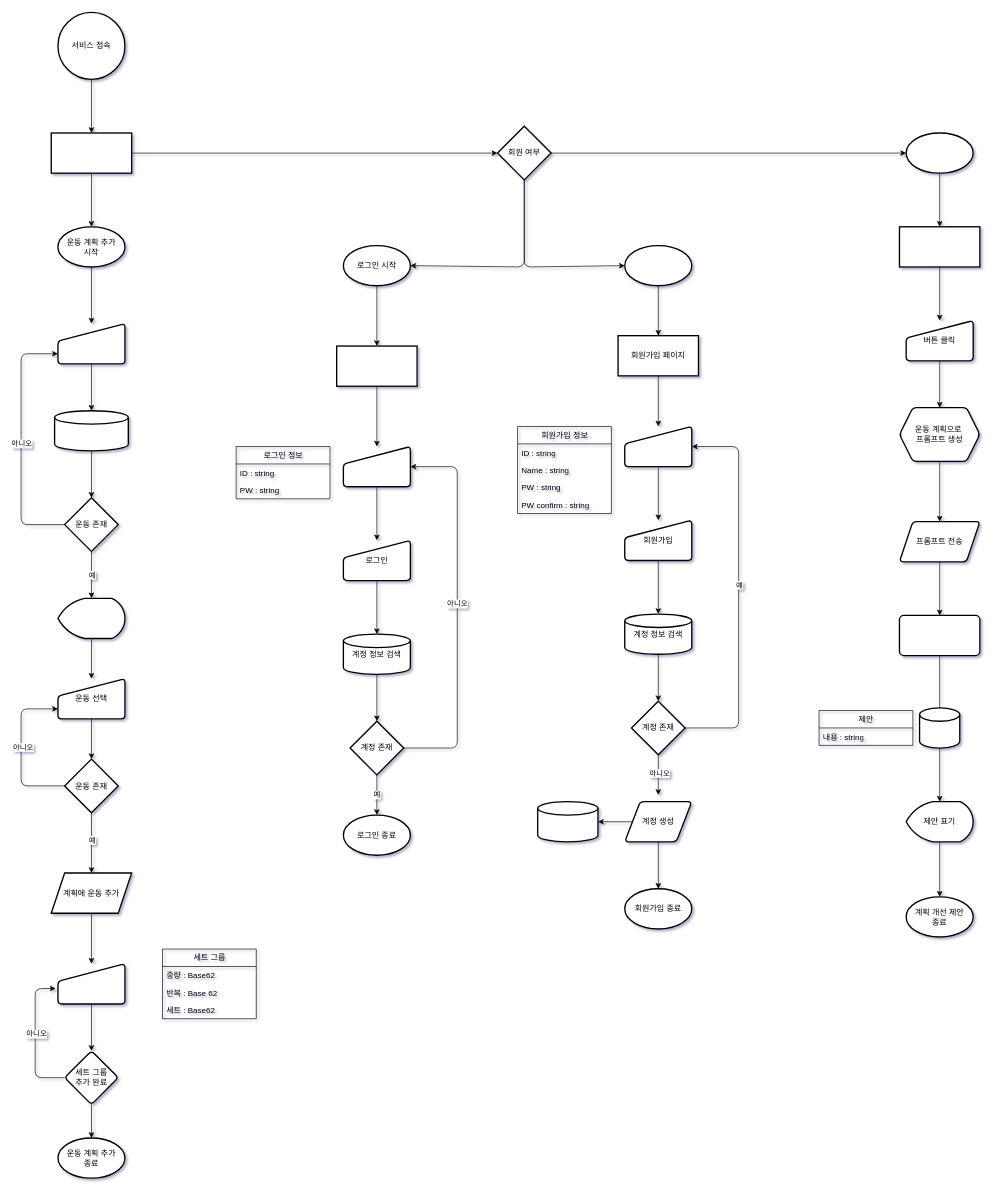
Some shapes in this 996 by 1194 pixel diagram are drawn without their labels. The shapes that lost their labels are listed below. From the top down, each one's centre as x and y in pixels, then its label:
At point (91, 153): "메인 페이지".
At point (939, 153): "계획 개선 제안 사적".
At point (658, 265): "회원가입 시작".
At point (939, 246): "개선 제안 버튼".
At point (91, 343): "운동 이름 입력".
At point (376, 366): "로그인 페이지".
At point (91, 430): "입력 DB 검색".
At point (658, 446): "회원가입 정보 입력".
At point (376, 466): "로그인 정보 입력".
At point (91, 618): "관련 운동 제안".
At point (939, 635): "AI에서 프롬프트 처리".
At point (939, 727): "제안 저장".
At point (567, 821): "계정 저장".
At point (91, 983): "운동 세트 그룹 추가".
